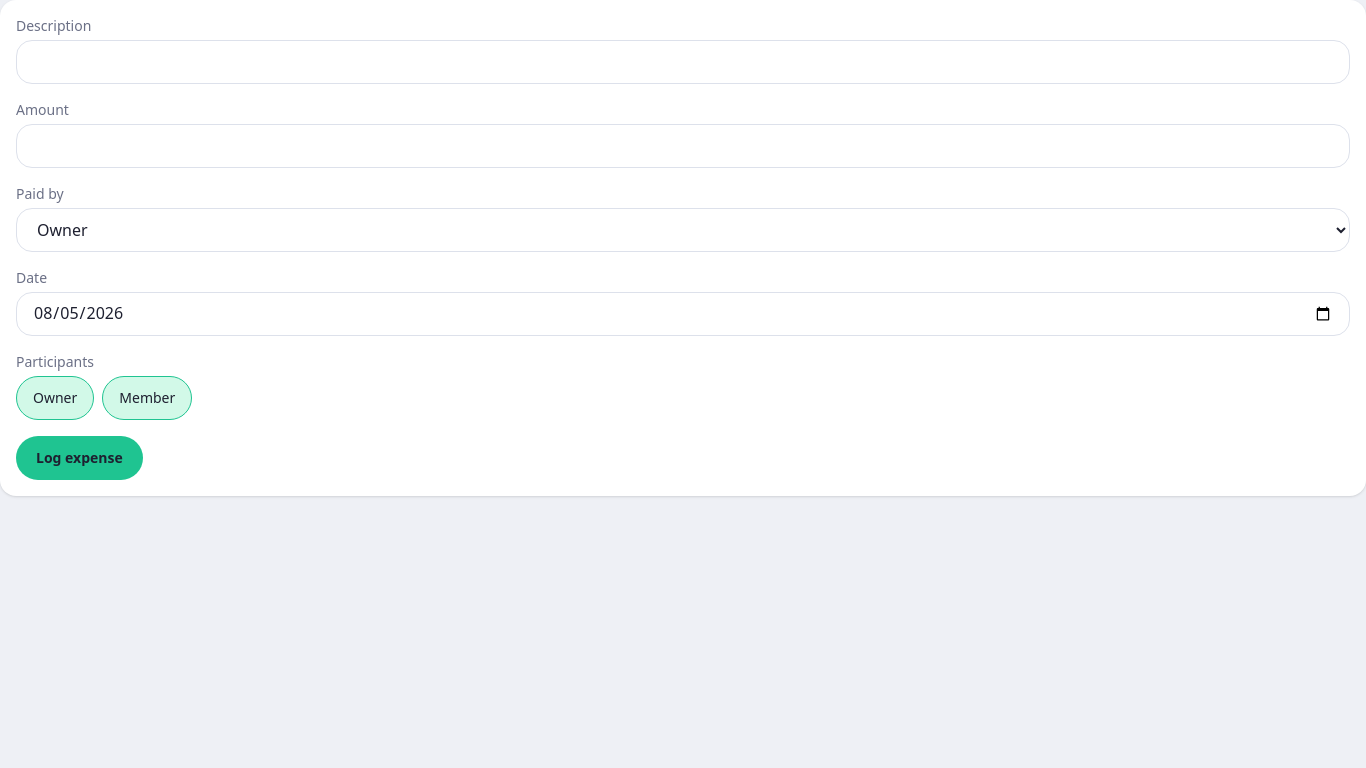
Test: AddExpenseForm › displays the server-returned error message when submission is rejected
Type "Dinner" into the field labelled "Description" at (683, 62), box [16,40,1350,84]
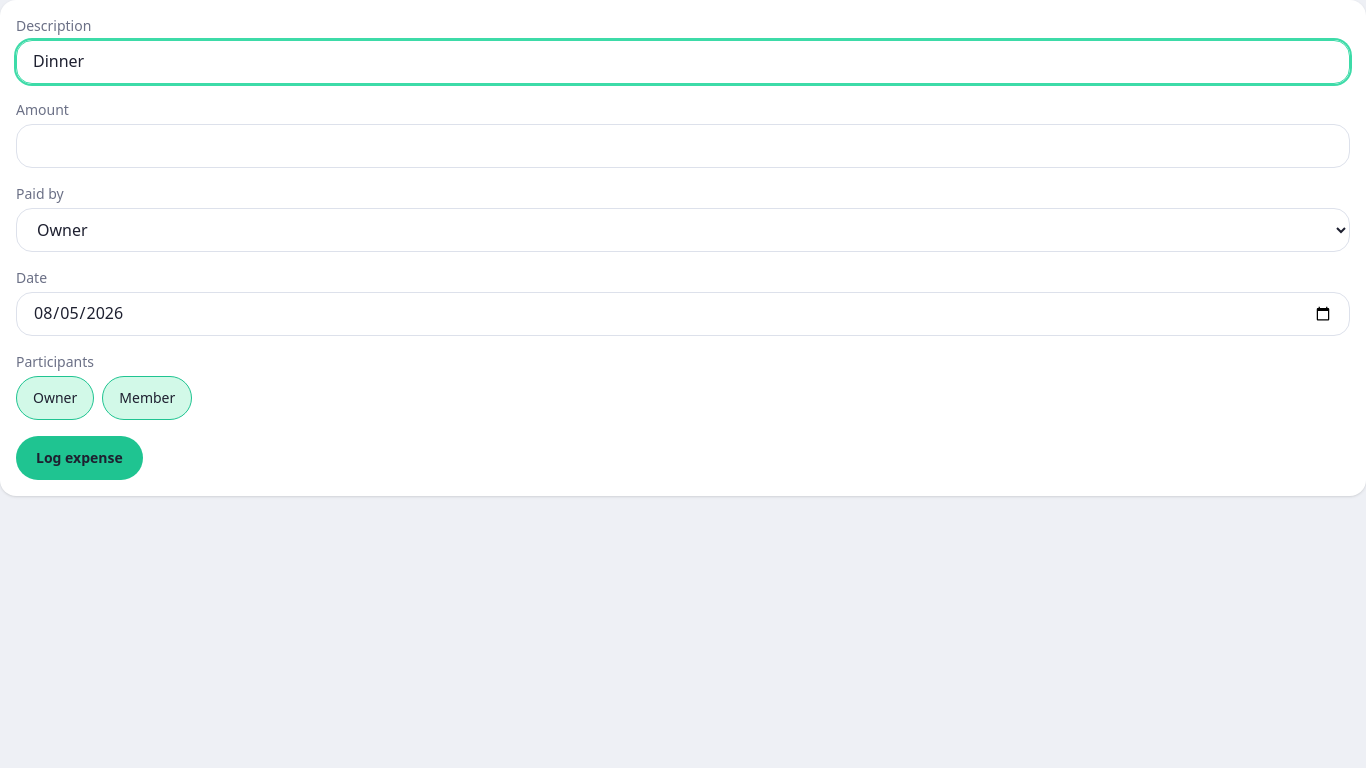
Type "40" into the number field labelled "Amount" at (683, 146), box [16,124,1350,168]
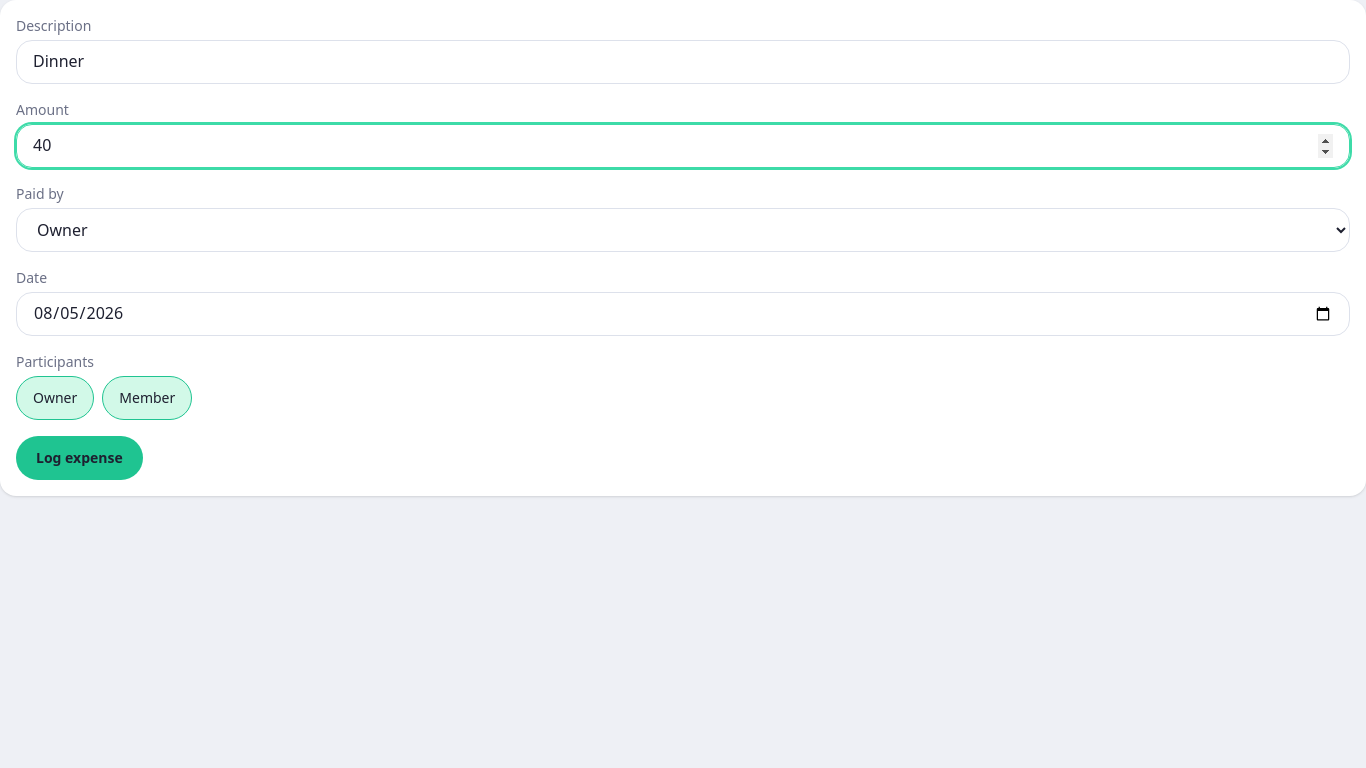
Click the button "Log expense" at (79, 458), box [16,436,143,480]
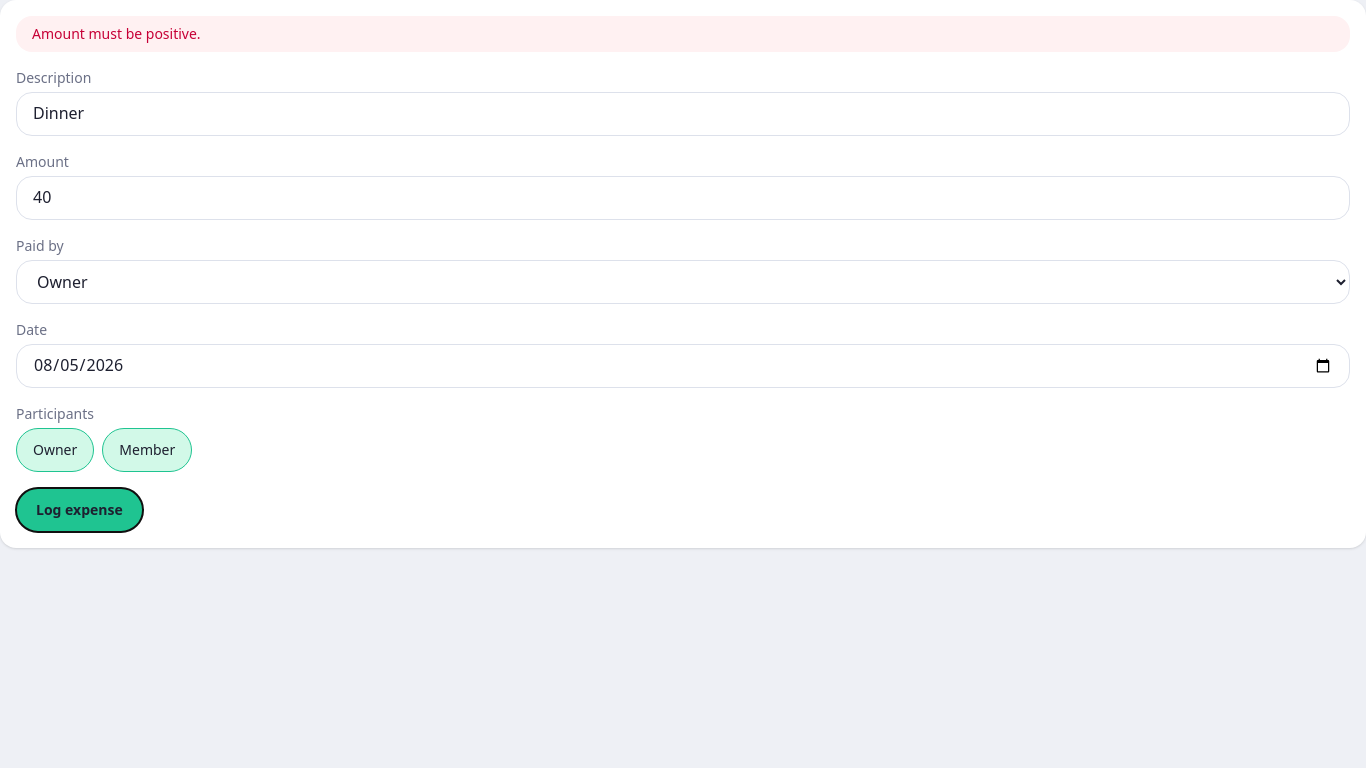
Result: the message shows "Amount must be positive" at [32,24,201,43]
